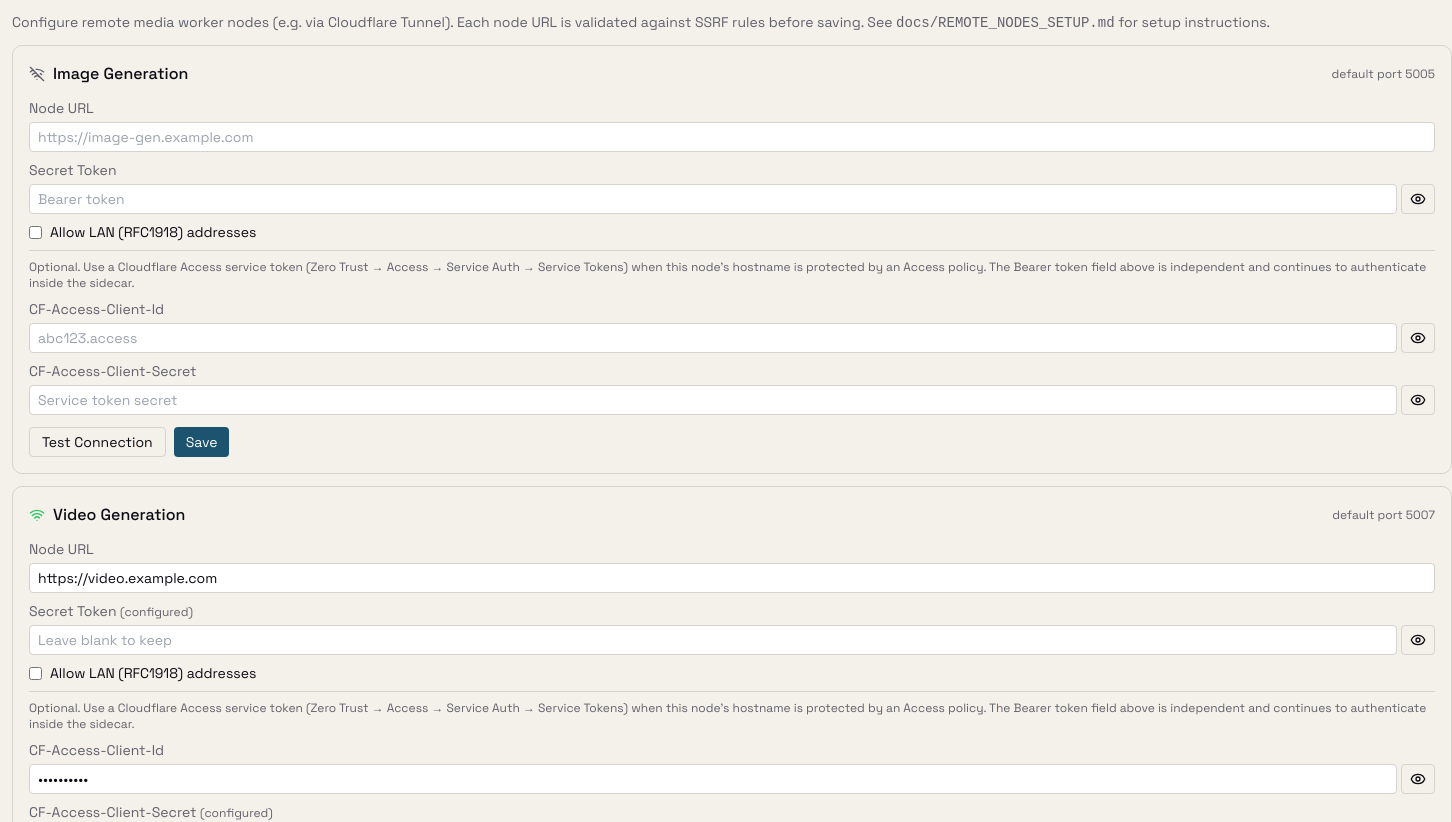
Scenario: RemoteNodesPanel › toggles token visibility
The image size is (1452, 822).
Click the button named "Show token" below "5005". click: (1418,199)
box: left=1401, top=184, right=1435, bottom=214
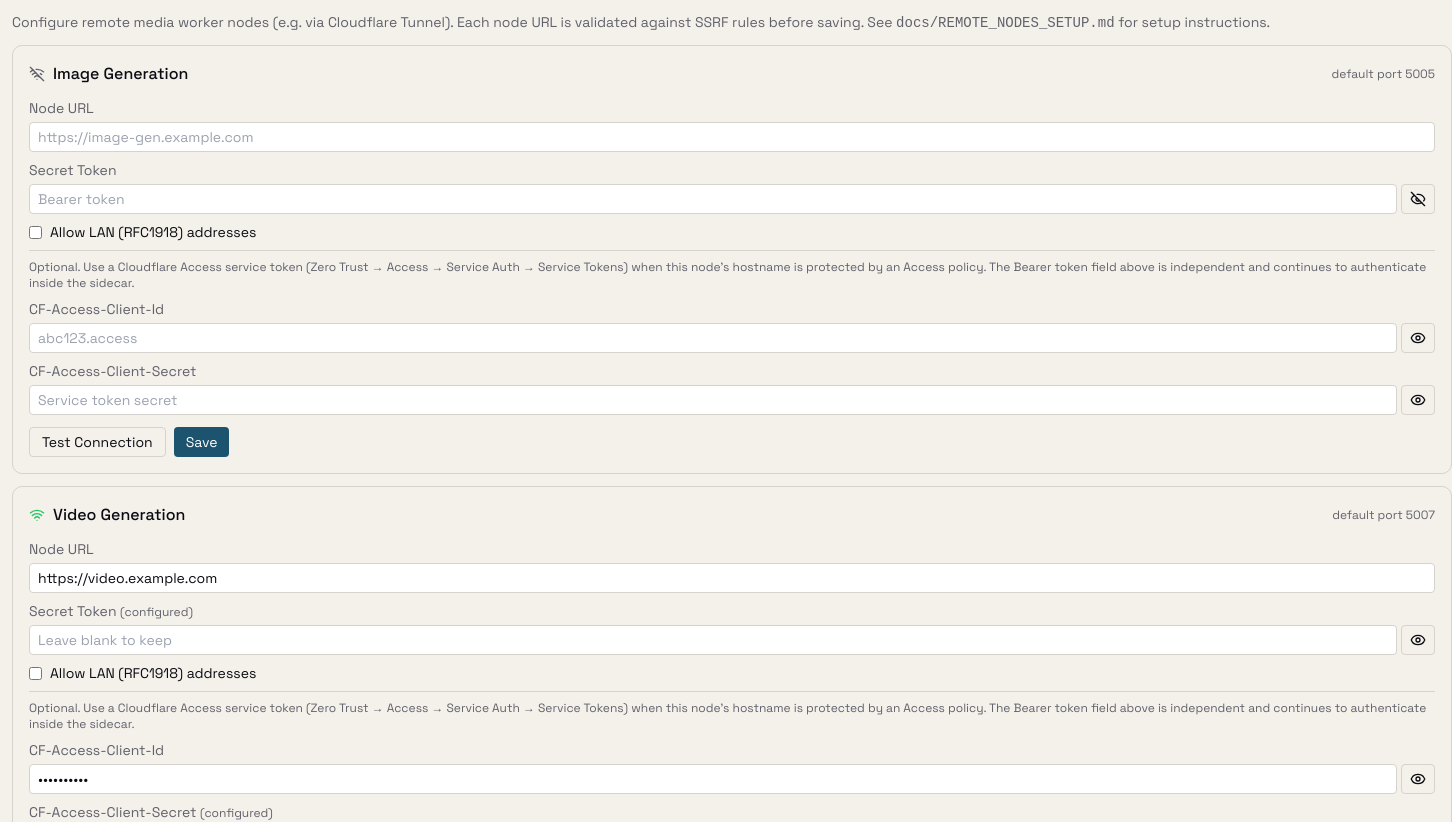
Expected: the button named "Hide token" is shown, left=1401, top=184, right=1435, bottom=214
